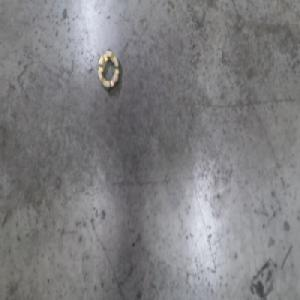Nut: (95, 46, 120, 91)
